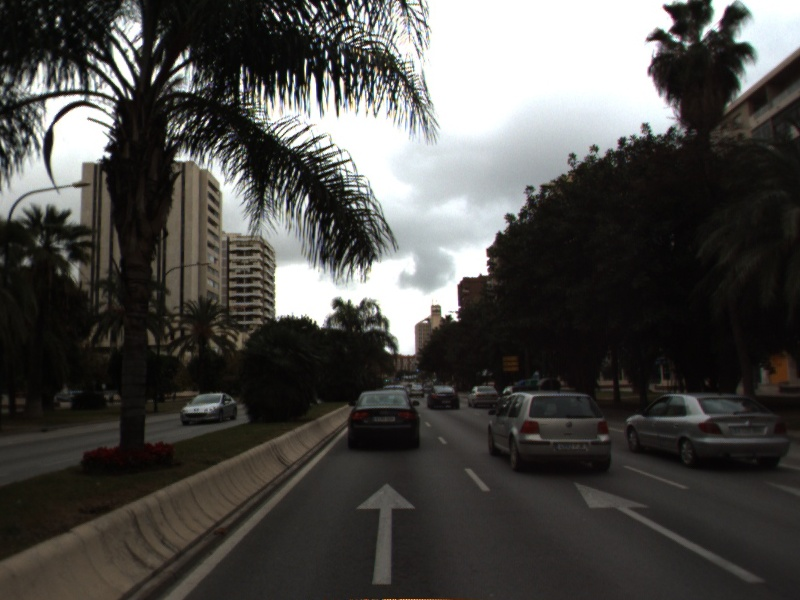STRAIGHT: (571, 479, 770, 585), (352, 480, 420, 588)
